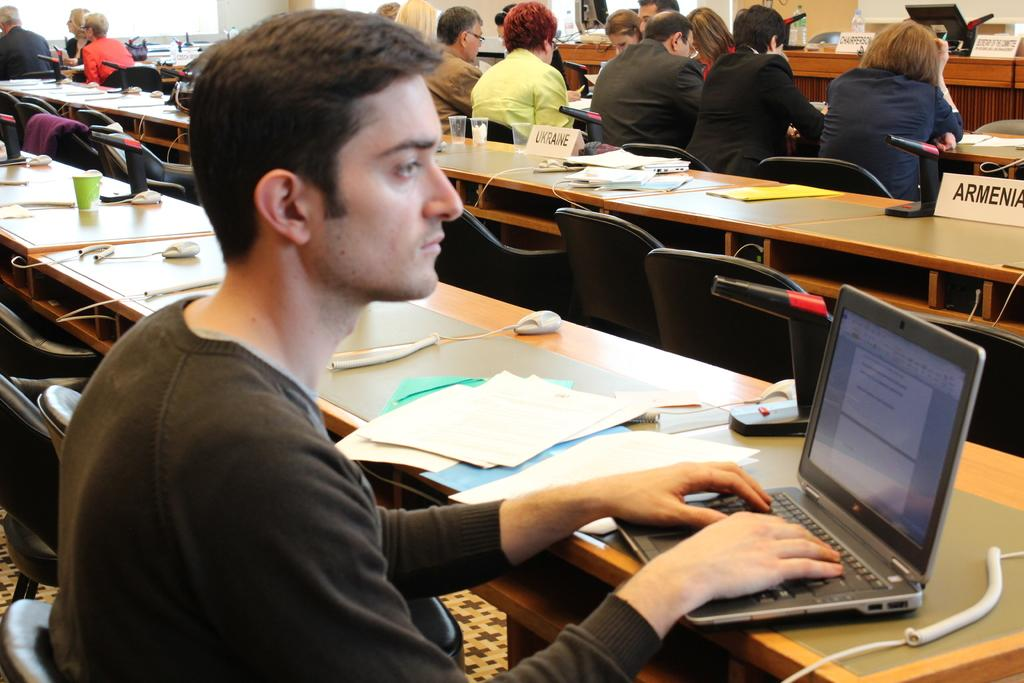Laptop: (611, 309, 986, 654)
